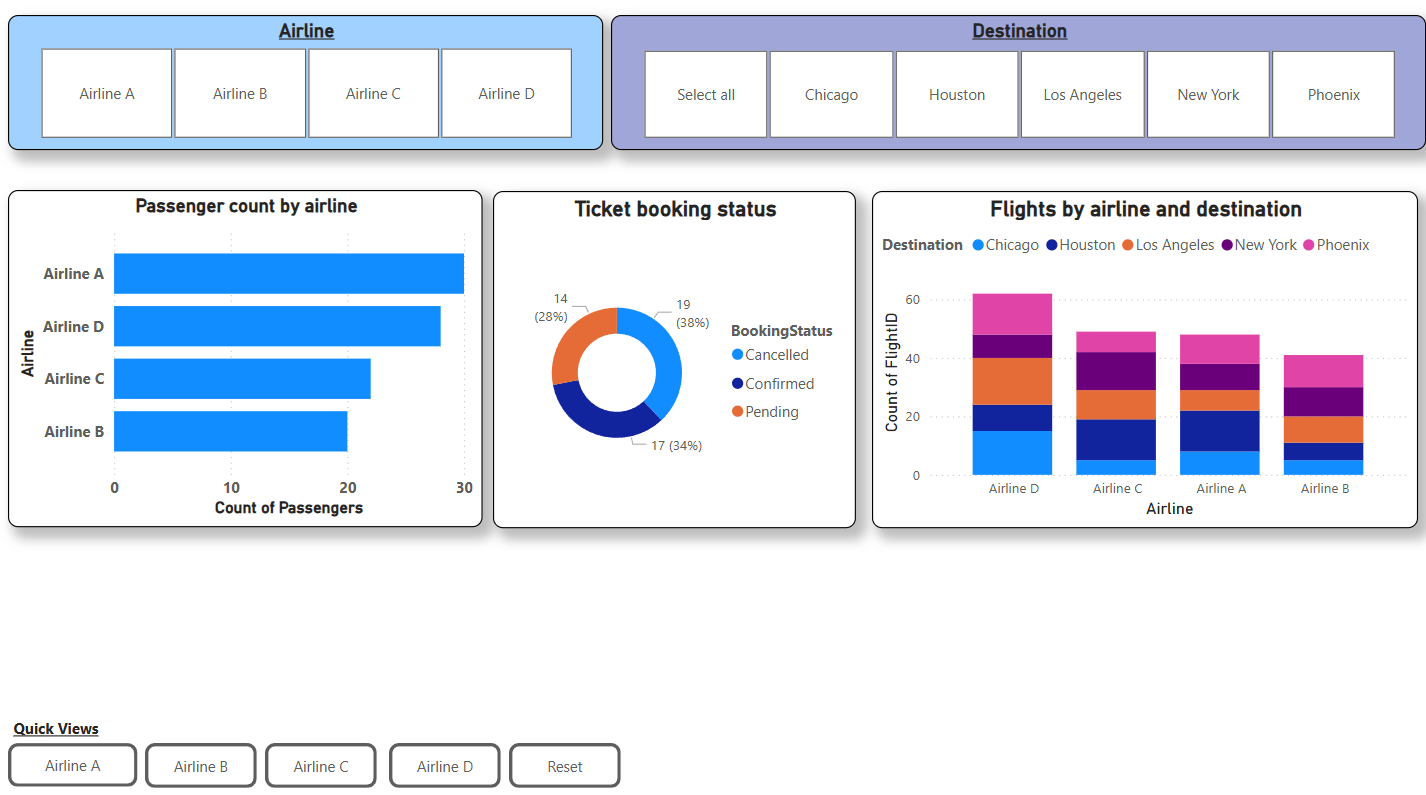

Layout of this report page (visuals, bound fields, positions):
{"tool":"powerbi","page":{"name":"Main Page","canvas":[1280,720],"ordinal":0},"visuals":[{"type":"barChart","title":"Passenger count by airline","fields":{"Category":["flight_information.Airline"],"Y":["CountNonNull(passenger_information.PassengerID)"]},"box":[9.8,176.8,425.4,301.6],"z":0},{"type":"donutChart","title":"Ticket booking status","fields":{"Category":["ticket_information.BookingStatus"],"Y":["CountNonNull(ticket_information.TicketID)"]},"box":[444.5,177,324.9,301.5],"z":1000},{"type":"columnChart","title":"Flights by airline and destination","fields":{"Category":["flight_information.Airline"],"Series":["flight_information.Destination"],"Y":["CountNonNull(flight_information.FlightID)"]},"box":[784,177,489.2,301.5],"z":2000},{"type":"slicer","title":"Airline","fields":{"Values":["flight_information.Airline"]},"box":[9.7,19.5,533,120.6],"z":3000},{"type":"slicer","title":"Destination","fields":{"Values":["flight_information.Destination"]},"box":[549.5,19.5,730.5,120.6],"z":4000},{"type":"actionButton","title":"Airline A","box":[9.8,671.9,115.9,39.3],"z":5000},{"type":"actionButton","box":[132.6,671.9,100.2,40.3],"z":6000},{"type":"actionButton","box":[239.7,671.9,100.2,40.3],"z":7000},{"type":"actionButton","box":[350.7,671.9,100.2,40.3],"z":8000},{"type":"actionButton","box":[458.8,671.9,100.2,40.3],"z":9000},{"type":"textbox","box":[9.8,644.4,122.3,26.9],"z":10000}]}

Visuals, with their boxes in screenshot pixels (x1, y1, x2, y2), scaled from the page's 1280x720 canvas onto the 1426x795 screenshot:
"Passenger count by airline" barChart: [11,195,485,528]
"Ticket booking status" donutChart: [495,195,857,528]
"Flights by airline and destination" columnChart: [873,195,1418,528]
"Airline" slicer: [11,22,605,155]
"Destination" slicer: [612,22,1425,155]
"Airline A" actionButton: [11,742,140,785]
actionButton: [148,742,259,786]
actionButton: [267,742,379,786]
actionButton: [391,742,502,786]
actionButton: [511,742,623,786]
textbox: [11,712,147,741]
